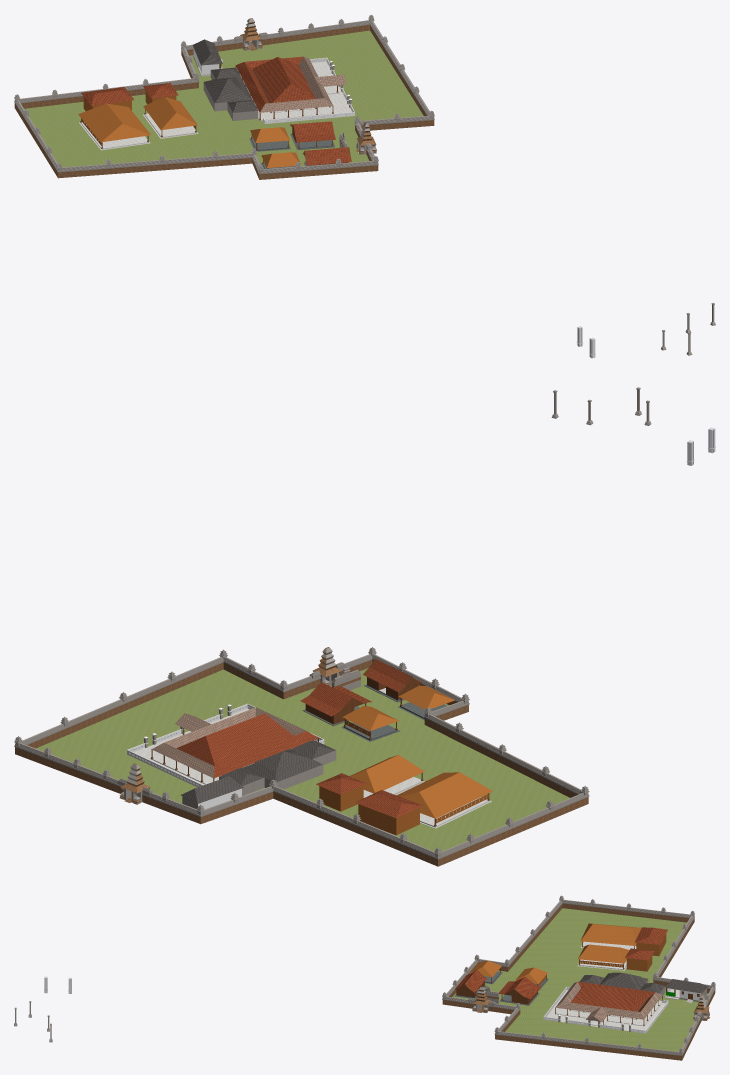
3 renders of one model, top to bottom at view 1: azimuth 30°, elevation 25°; view 2: azimuth 150°, elevation 25°; view 3: azimuth 270°, elevation 25°, orthographic. The views are drawn at different scales.
Visible parts, largest first — view 1: 3DGeom-33_176, 3DGeom-4_147, 3DGeom-1_144, 3DGeom-17_160, 3DGeom-18_161, 3DGeom-21_164, 3DGeom-19_162, 3DGeom-12_155, 3DGeom-14_157, 3DGeom-6_149, 3DGeom-25_168, 3DGeom-26_169 (+2 smaller); view 2: 3DGeom-33_176, 3DGeom-4_147, 3DGeom-1_144, 3DGeom-17_160, 3DGeom-18_161, 3DGeom-21_164, 3DGeom-19_162, 3DGeom-14_157, 3DGeom-23_166, 3DGeom-6_149, 3DGeom-12_155, 3DGeom-2_145 (+2 smaller); view 3: 3DGeom-33_176, 3DGeom-4_147, 3DGeom-1_144, 3DGeom-17_160, 3DGeom-18_161, 3DGeom-21_164, 3DGeom-19_162, 3DGeom-12_155, 3DGeom-14_157, 3DGeom-25_168, 3DGeom-9_152, 3DGeom-23_166 (+4 smaller).
Part boxes in pixels (<box>): 3DGeom-33_176: <box>24,30,423,167</box>; 3DGeom-4_147: <box>14,15,715,355</box>; 3DGeom-1_144: <box>14,25,434,179</box>; 3DGeom-17_160: <box>78,97,301,167</box>; 3DGeom-18_161: <box>81,56,351,165</box>; 3DGeom-21_164: <box>192,39,257,112</box>; 3DGeom-19_162: <box>253,57,315,102</box>; 3DGeom-12_155: <box>79,74,339,150</box>; 3DGeom-14_157: <box>260,56,346,112</box>; 3DGeom-6_149: <box>268,20,429,134</box>; 3DGeom-25_168: <box>144,59,353,137</box>; 3DGeom-26_169: <box>251,133,334,168</box>; 3DGeom-33_176: <box>36,668,569,851</box>; 3DGeom-4_147: <box>14,390,641,859</box>; 3DGeom-1_144: <box>15,659,588,866</box>; 3DGeom-17_160: <box>342,685,492,823</box>; 3DGeom-18_161: <box>214,659,423,818</box>; 3DGeom-21_164: <box>180,740,335,803</box>; 3DGeom-19_162: <box>177,713,293,765</box>; 3DGeom-14_157: <box>151,707,306,778</box>; 3DGeom-23_166: <box>319,785,419,835</box>; 3DGeom-6_149: <box>18,657,312,783</box>; 3DGeom-12_155: <box>150,731,491,828</box>; 3DGeom-2_145: <box>144,681,360,809</box>; 3DGeom-33_176: <box>452,908,708,1051</box>; 3DGeom-4_147: <box>14,895,715,1055</box>; 3DGeom-1_144: <box>442,903,715,1060</box>; 3DGeom-17_160: <box>469,923,641,985</box>; 3DGeom-18_161: <box>454,927,667,1011</box>; 3DGeom-21_164: <box>579,972,707,993</box>; 3DGeom-19_162: <box>571,985,647,1011</box>; 3DGeom-12_155: <box>555,941,679,1026</box>; 3DGeom-14_157: <box>555,981,662,1022</box>; 3DGeom-25_168: <box>546,965,692,1031</box>; 3DGeom-9_152: <box>543,987,701,1033</box>; 3DGeom-23_166: <box>626,934,666,971</box>.
Bounding box in the file's own units: 111 × 8.13 × 212.
21 materials, 16 textured.
